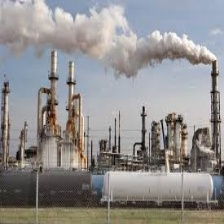smoke: (1, 2, 220, 73)
